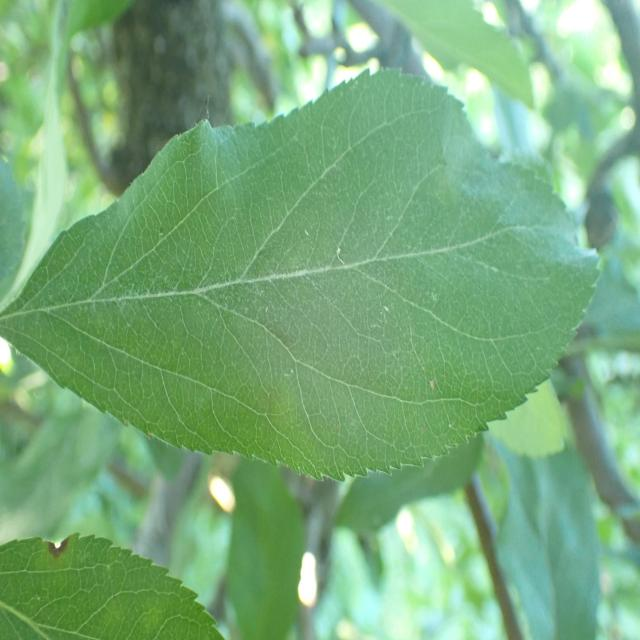scab: (59, 190, 584, 384)
